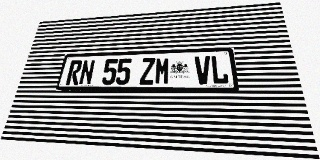5: (115, 58, 132, 85), (101, 59, 118, 85)
L: (210, 55, 229, 84)
M: (154, 57, 170, 85)
N: (78, 60, 96, 85)
R: (65, 60, 83, 85)
V: (194, 56, 212, 84)
Z: (139, 58, 155, 85)
